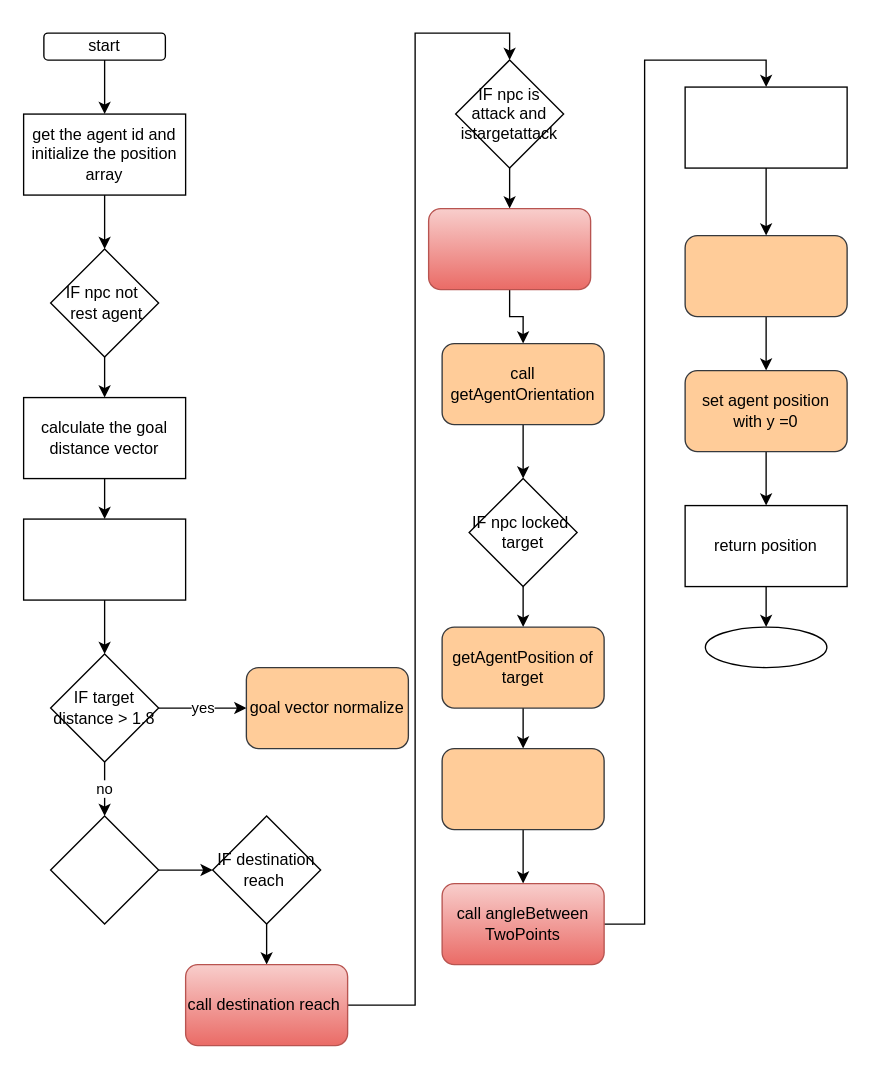
Image size: 871x1069. Some labels were removed from this diagram. Each missing label, with the centre of its shape:
"call isTargetIn AttackRnge" goes at point 509,248.
"call setAgentPref Velocity" goes at point 765,275.
"construct the current position object" goes at point 104,559.
"construct the truck position array" goes at point 765,127.
"ELSE" goes at point 104,869.
"end" goes at point 765,647.
"getAgentPosition of npc" goes at point 522,788.
